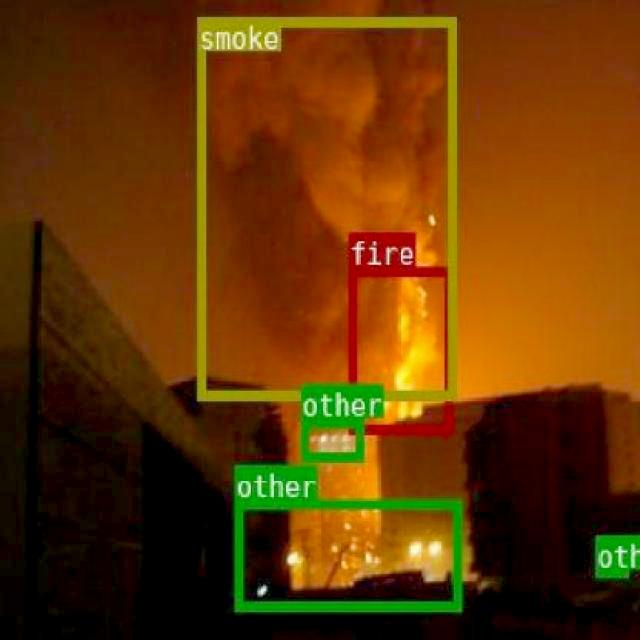fire: (346, 264, 451, 432)
smoke: (195, 16, 454, 399)
